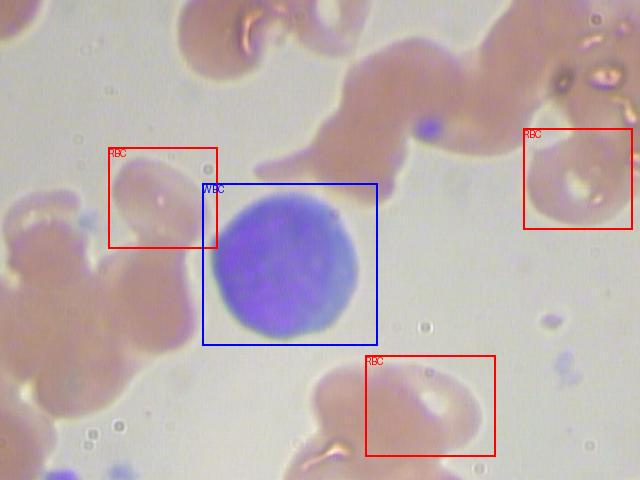RBC: (365, 355, 495, 456), (108, 147, 217, 248), (523, 128, 632, 229)
WBC: (202, 183, 377, 345)
